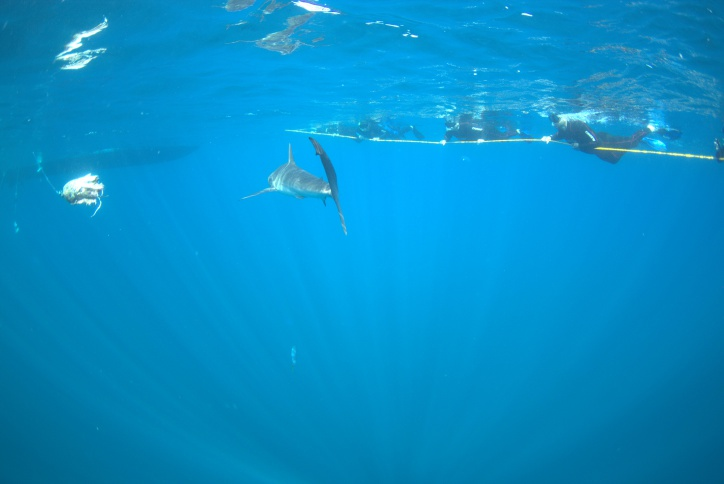Sedoso: (227, 133, 362, 240)
